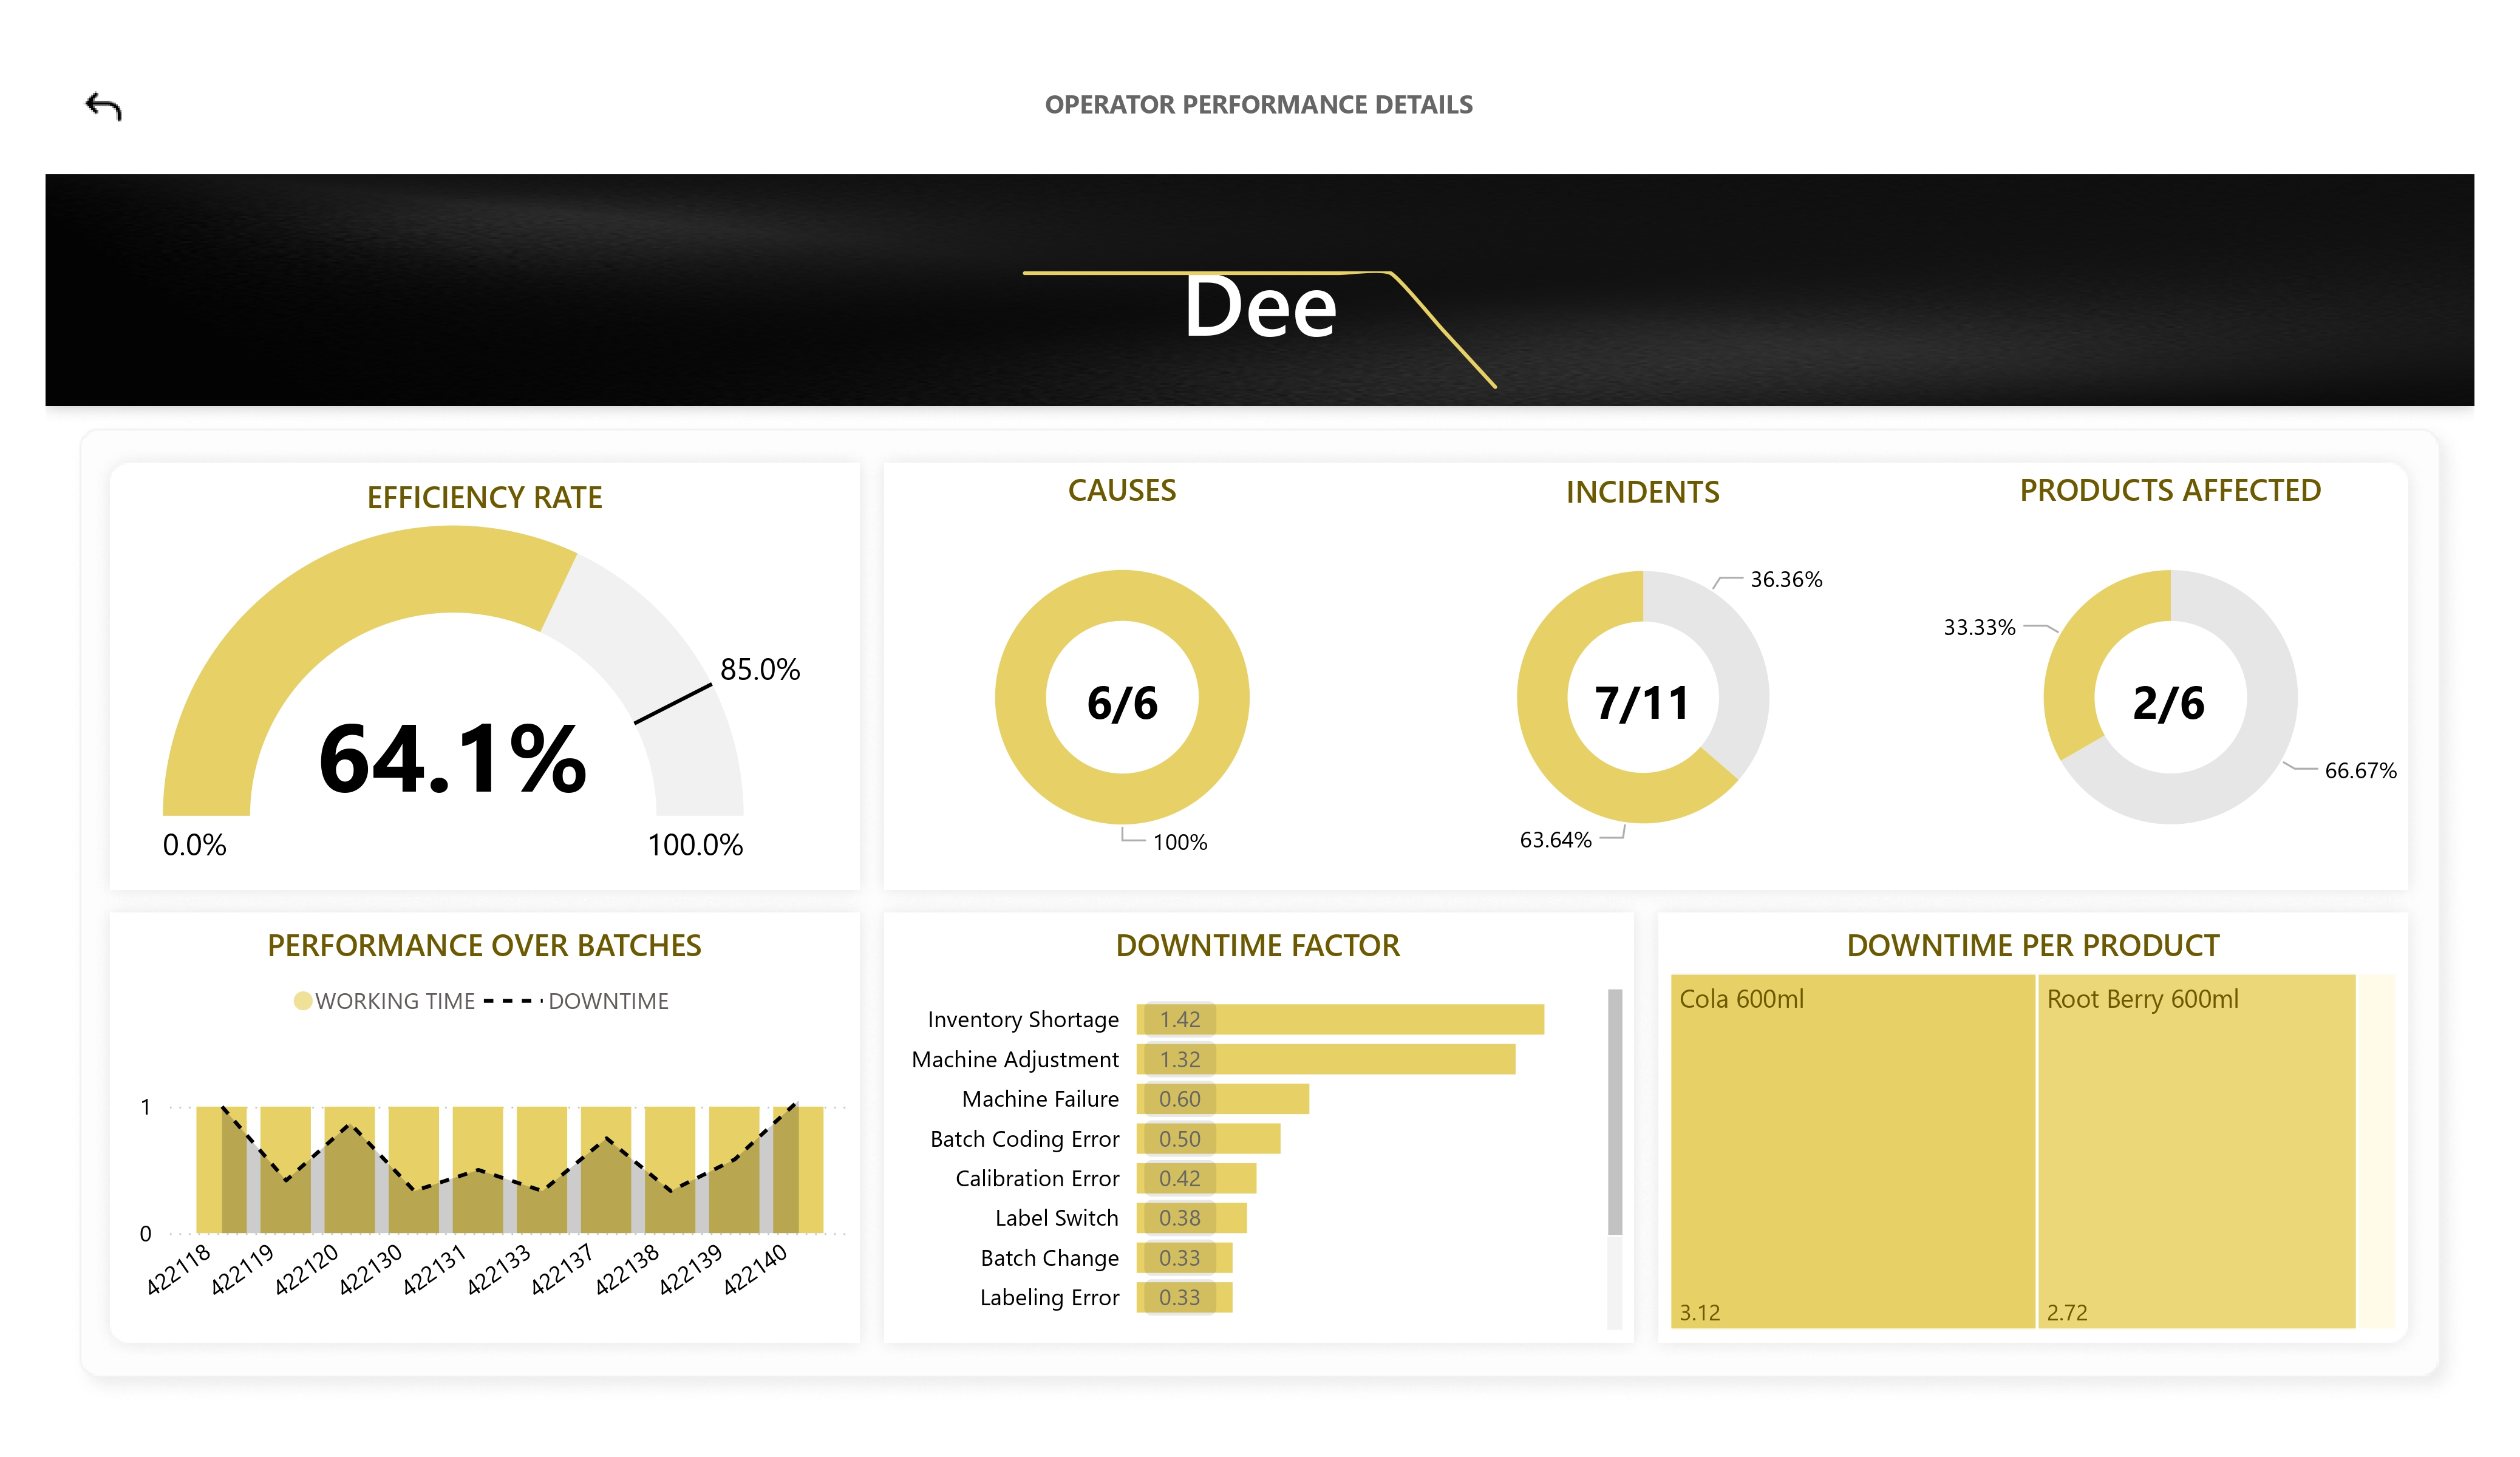

The dashboard page shown, as its layout file describes it:
{"tool":"powerbi","page":{"name":"Operator Drill Through","canvas":[1280,720],"ordinal":5},"visuals":[{"type":"cardVisual","fields":{"Data":["Min(dOperators.Operator)"]},"box":[292.2,68,695.6,123],"z":0},{"type":"actionButton","box":[5.3,8.9,49.7,49.7],"z":1000},{"type":"textbox","box":[437.1,16.8,405.2,32.8],"z":2000},{"type":"gauge","title":"EFFICIENCY RATE","fields":{"Y":["_Measures.Overall Line Efficiency (%)"]},"box":[34.1,222.3,395.3,219.6],"z":3000},{"type":"clusteredBarChart","title":"DOWNTIME FACTOR","fields":{"Category":["dDowntimeFactors.Description"],"Y":["_Measures.Total Downtime (H)"]},"box":[441.9,462.5,394.4,219.6],"z":4000},{"type":"treemap","title":"DOWNTIME PER PRODUCT","fields":{"Group":["dProducts.Product Name"],"Values":["_Measures.Total Downtime (H)"]},"box":[851.2,462.9,392.8,219],"z":5000},{"type":"lineStackedColumnComboChart","title":"PERFORMANCE OVER BATCHES","fields":{"Category":["fLineDowntime.Batch"],"Y":["_Measures.Net Operating Time (H)"],"Y2":["_Measures.Total Downtime (H)"]},"box":[34.1,462.5,395.3,219.6],"z":7000},{"type":"lineChart","title":"DOWNTIME OVER BATCH","fields":{"Category":["fLineDowntime.Batch"],"Y":["_Measures.Net Operating Time (H)"]},"box":[500.1,105.5,280.2,80.7],"z":8000},{"type":"cardVisual","fields":{"Data":["_Measures.A/T Products"]},"box":[994.4,237.6,249.6,205.7],"z":9000},{"type":"cardVisual","fields":{"Data":["_Measures.A/T Batches"]},"box":[716.9,238.6,250.6,203.7],"z":9500},{"type":"cardVisual","fields":{"Data":["_Measures.A/T Factors"]},"box":[442.3,237.6,250.6,205.7],"z":10000},{"type":"donutChart","title":"PRODUCTS AFFECTED","fields":{"Y":["_Measures.Other Products","_Measures.Affected Products"]},"box":[994.9,223.4,250,219.9],"z":11000},{"type":"donutChart","title":"INCIDENTS","fields":{"Y":["_Measures.Other Batches","_Measures.Affected Batches"]},"box":[716.9,223.7,250.6,218.7],"z":12000},{"type":"donutChart","title":"CAUSES","fields":{"Y":["_Measures.Other Factors","_Measures.Affected Factors"]},"box":[442.5,223.4,250,219.9],"z":13000}]}

Visuals, with their boxes on the page's 1280x720 design canvas (x1, y1, x2, y2). These are canvas units, not pixel positions in the 2520x1457 screenshot, which may show the page scaled, cropped or inside an application window:
cardVisual - Min(dOperators.Operator): 292/68/988/191
actionButton: 5/9/55/59
textbox: 437/17/842/50
"EFFICIENCY RATE" gauge: 34/222/429/442
"DOWNTIME FACTOR" clusteredBarChart: 442/462/836/682
"DOWNTIME PER PRODUCT" treemap: 851/463/1244/682
"PERFORMANCE OVER BATCHES" lineStackedColumnComboChart: 34/462/429/682
"DOWNTIME OVER BATCH" lineChart: 500/106/780/186
cardVisual - _Measures.A/T Products: 994/238/1244/443
cardVisual - _Measures.A/T Batches: 717/239/968/442
cardVisual - _Measures.A/T Factors: 442/238/693/443
"PRODUCTS AFFECTED" donutChart: 995/223/1245/443
"INCIDENTS" donutChart: 717/224/968/442
"CAUSES" donutChart: 442/223/692/443
